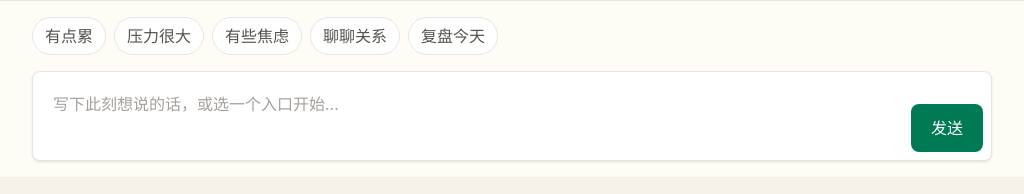
Test: Composer › fills the composer from a scenario tag
This screenshot has width=1024, height=194.
Click the button "有些焦虑": [257, 36] box [212,17,302,55]
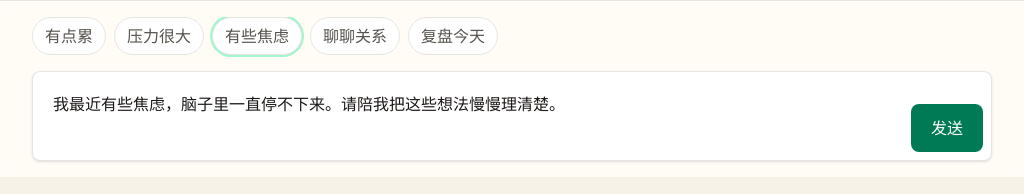
Expected: the text box with placeholder "写下此刻想说的话，或选一个入口开始..." holds "我最近有些焦虑，脑子里一直停不下来。请陪我把这些想法慢慢理清楚。", [41,80,899,152]
